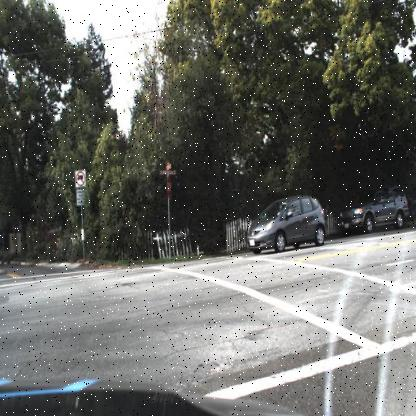car: (245, 192, 327, 255), (336, 184, 409, 233)
